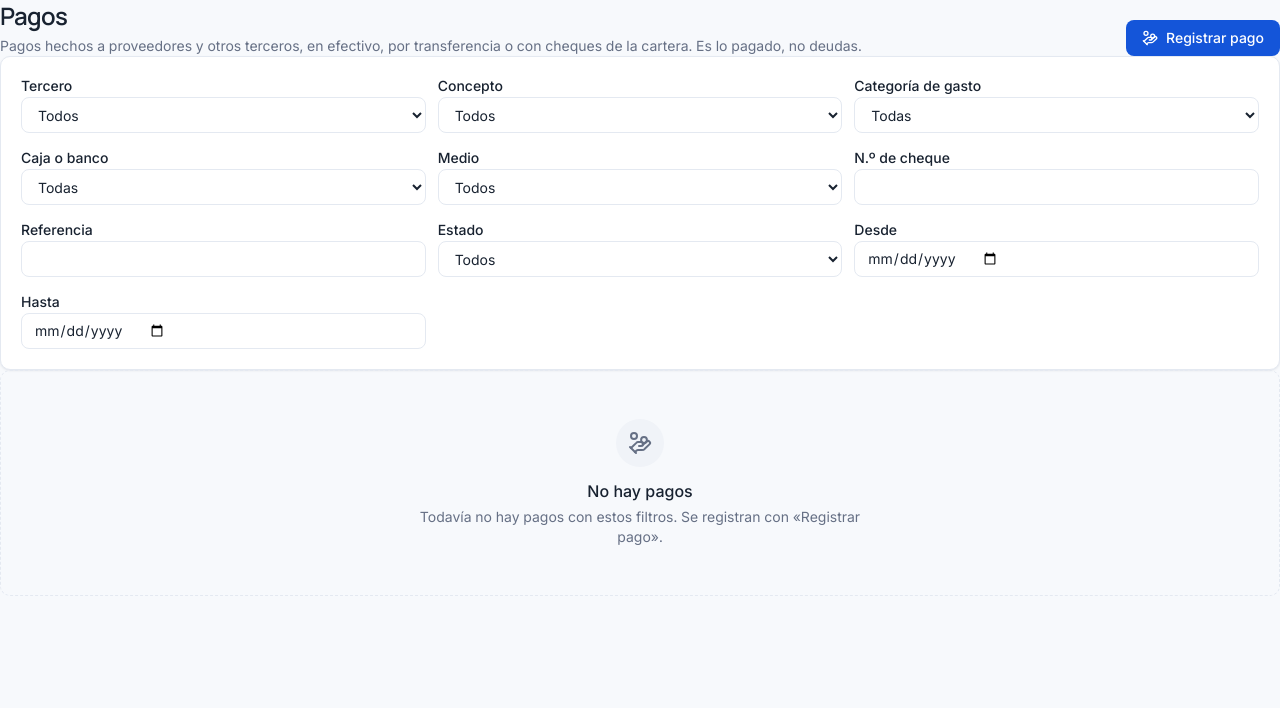
Pagos (R6-1) › registers a new third party on the spot and offers the homonym instead of duplicating it
Click the button "Registrar pago": click(1203, 38) [1126,20,1279,56]
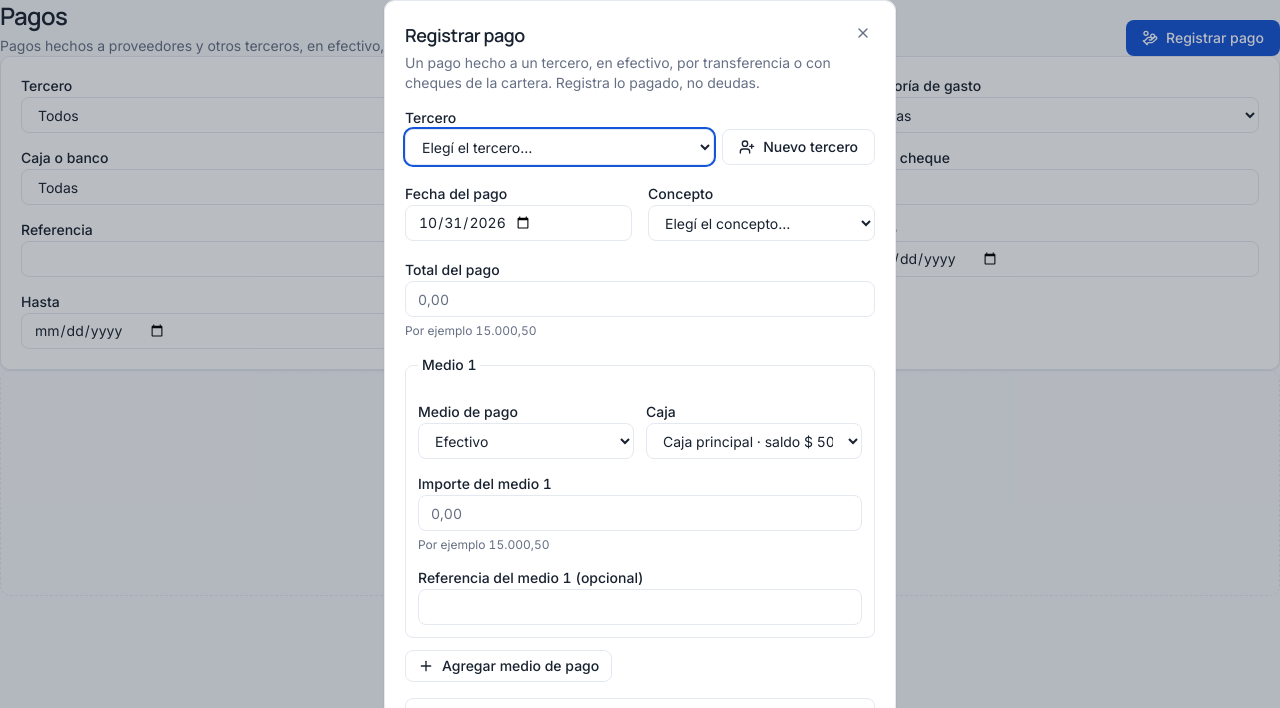
Click the button "Nuevo tercero": click(799, 147) [722,129,875,165]
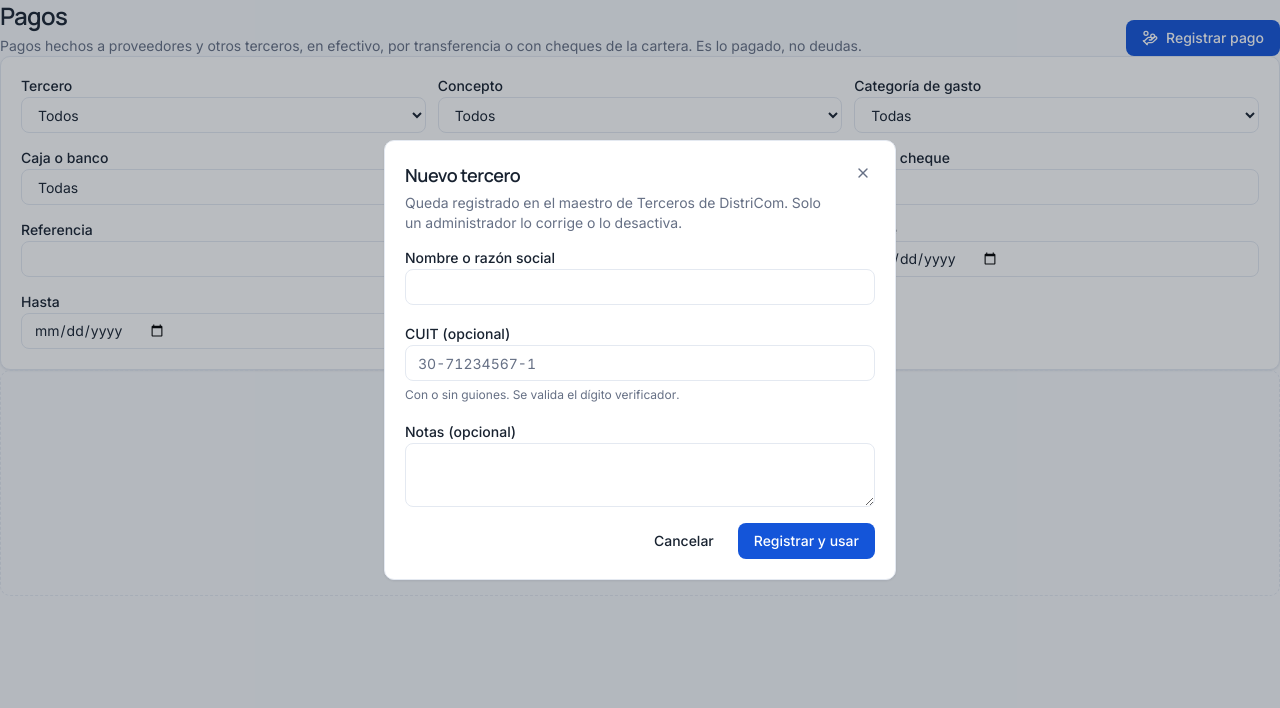
In the field labelled "Nombre o razón social": (640, 287) [405,269,875,305], type "distribuidora x"
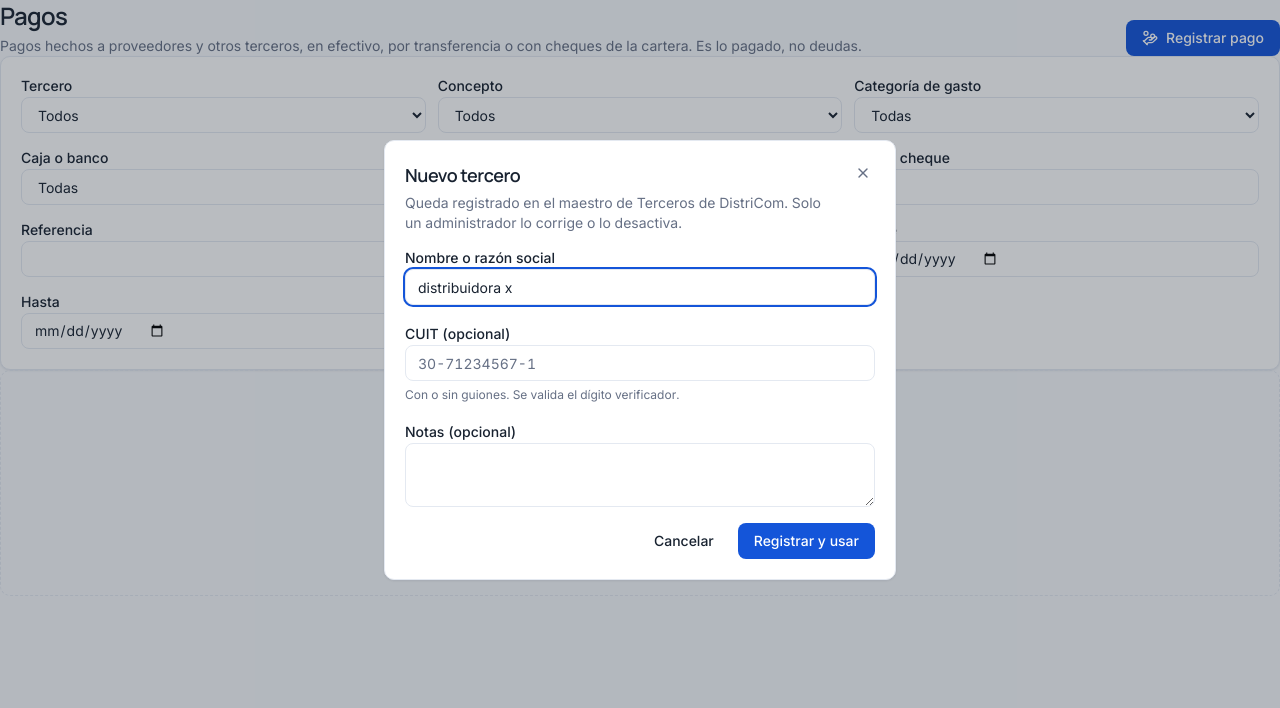
Click the button "Registrar y usar": click(806, 541) [738,523,875,559]
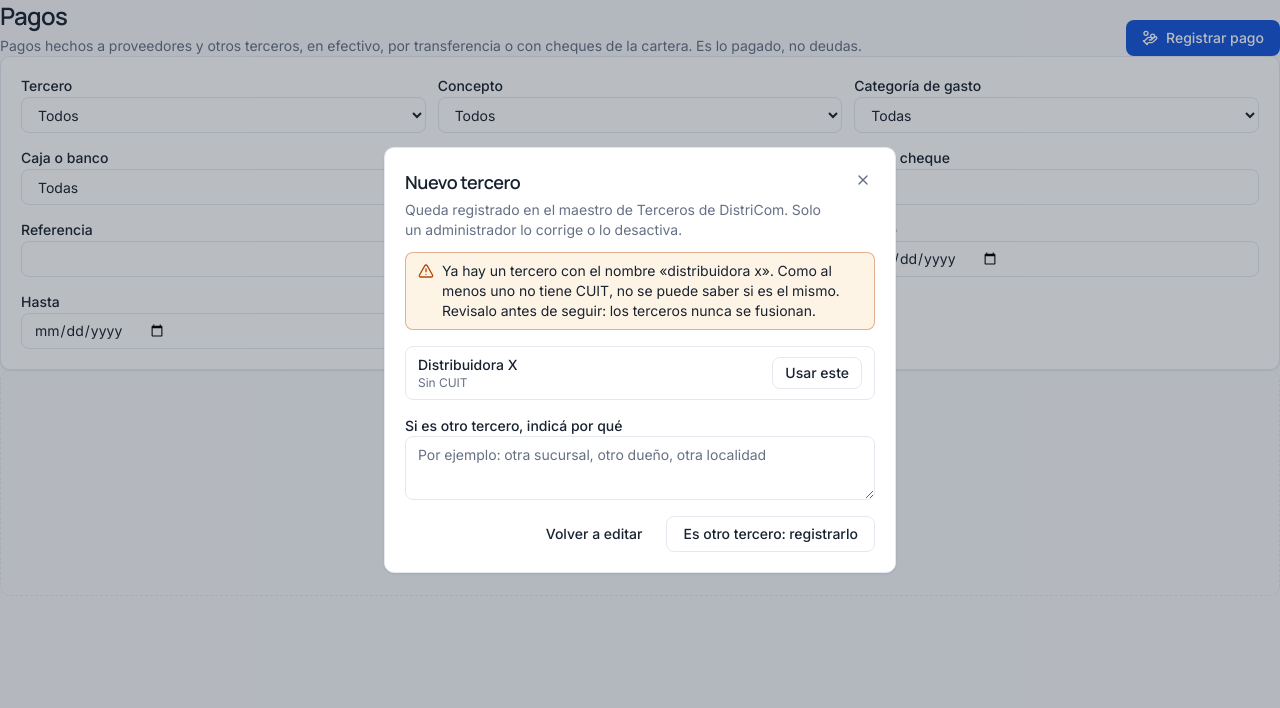
Expected: the text "Ya hay un tercero con el nombre" is shown, [442,262,667,279]
Click the button "Es otro tercero: registrarlo": click(771, 534) [666,516,875,552]
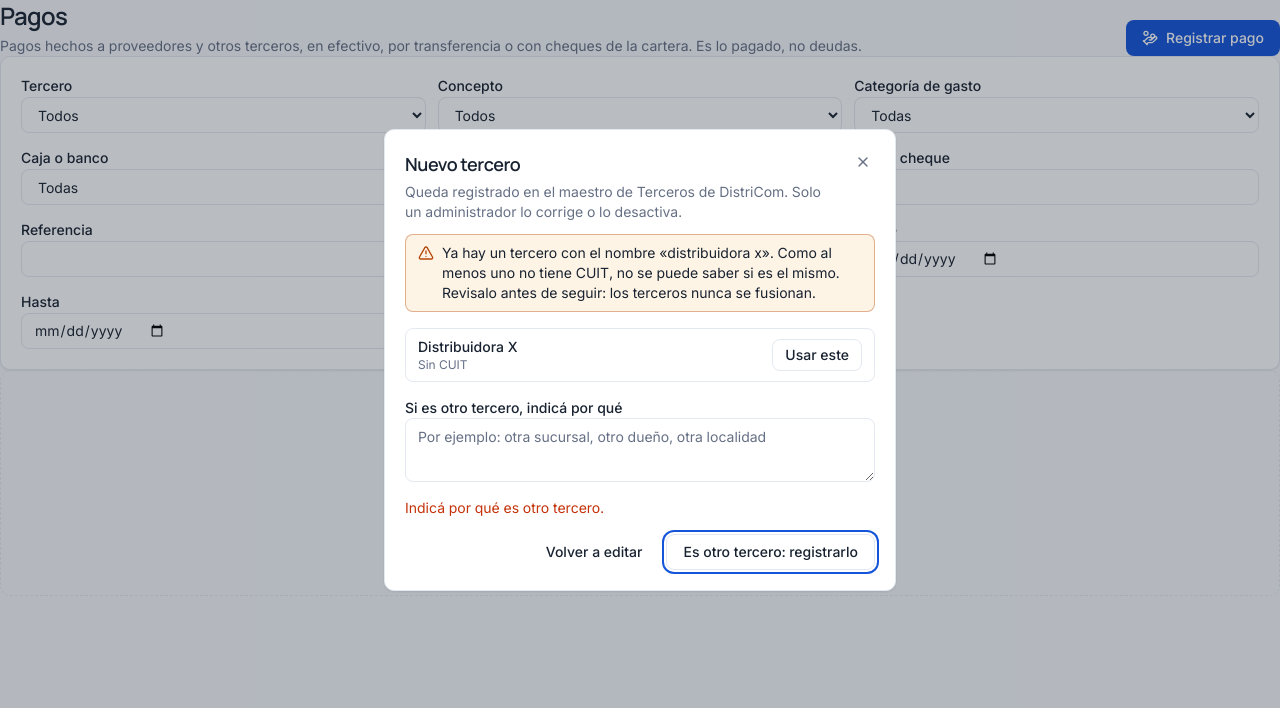
Expected: the text "Indicá por qué es otro tercero." is shown, [405,499,604,516]
Click the button "Usar este": click(817, 355) [772,339,862,371]
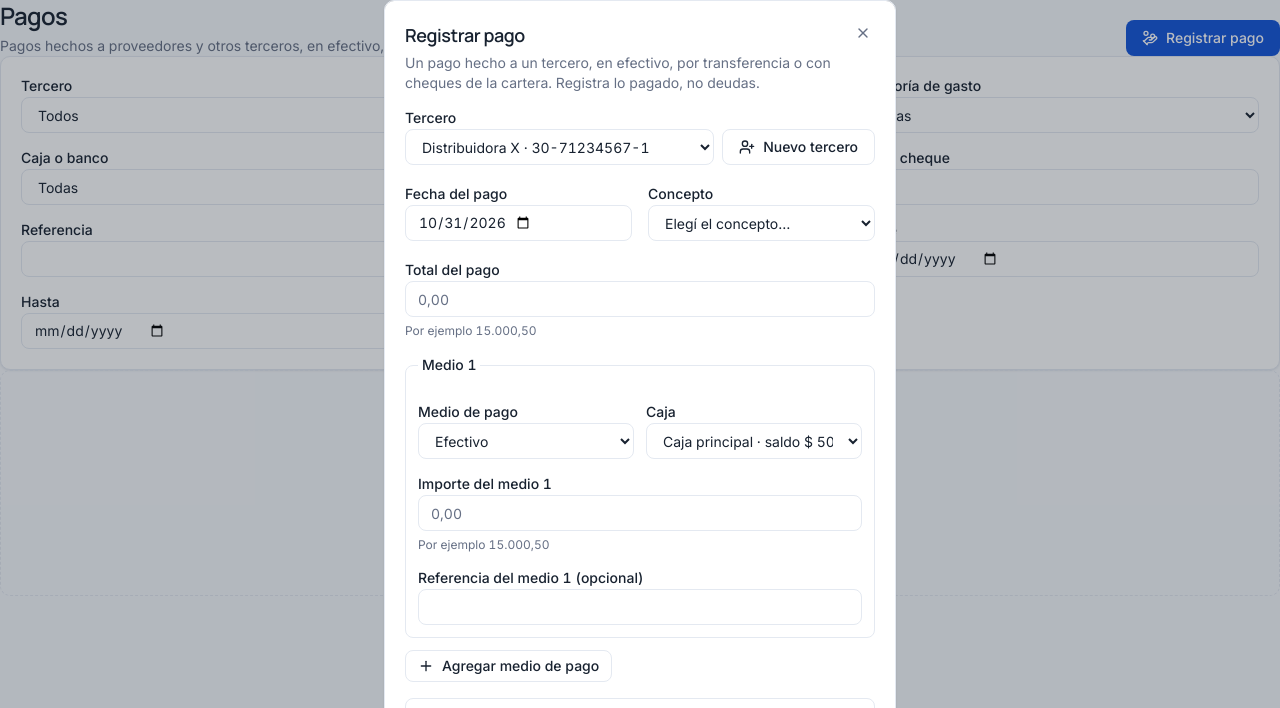
Expected: the dropdown labelled "Tercero" shows "Distribuidora X · 30-71234567-1", [405,129,714,165]
